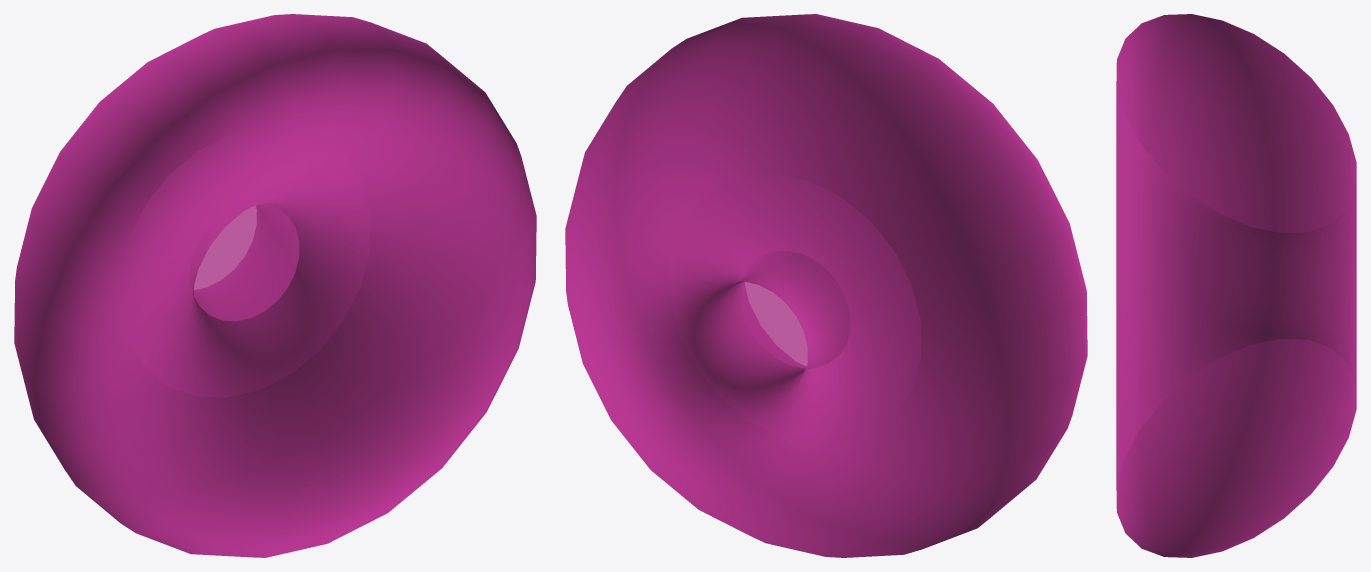
The model's file is model_align.obj.
3 views of the same model, side by side, from view 1: azimuth 30°, elevation 25°; view 2: azimuth 150°, elevation 25°; view 3: azimuth 270°, elevation 25° (orthographic). The views are drawn at different scales.
Parts seen in each view (by area): view 1: mesh2_mesh2-geometry, mesh1_mesh1-geometry; view 2: mesh2_mesh2-geometry, mesh1_mesh1-geometry; view 3: mesh2_mesh2-geometry.
Boxes of the visible parts, x1,y1,x2,y2 form: mesh2_mesh2-geometry: (14, 14, 536, 557); mesh1_mesh1-geometry: (120, 127, 369, 396); mesh2_mesh2-geometry: (565, 14, 1087, 557); mesh1_mesh1-geometry: (671, 175, 920, 444); mesh2_mesh2-geometry: (1116, 14, 1356, 557).
Bounding box in the file's own units: 0.1515 × 0.1515 × 0.0672.
